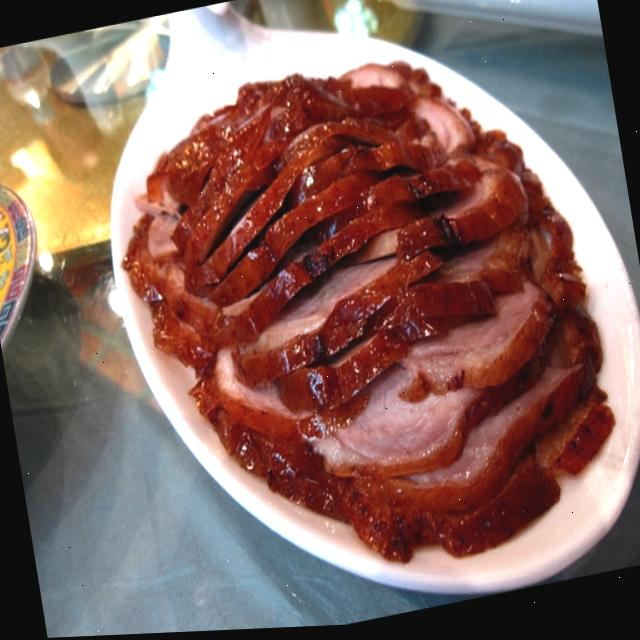烧串烤肉: (65, 0, 640, 624)
